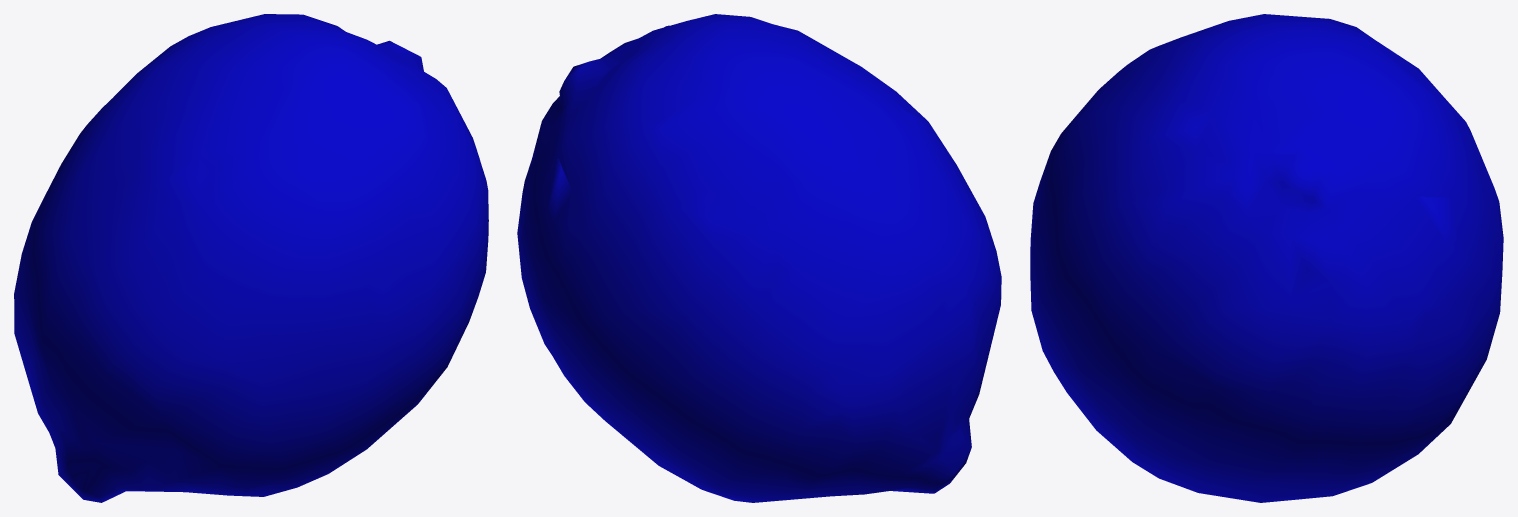
File: 08194_sparse_textured_ok.obj
3 renders of one model, left to right at view 1: azimuth 30°, elevation 25°; view 2: azimuth 150°, elevation 25°; view 3: azimuth 270°, elevation 25°, orthographic. The views are drawn at different scales.
Parts seen in each view (by area): view 1: textured_ok; view 2: textured_ok; view 3: textured_ok.
Part boxes in pixels (x1,y1,x2,y2): textured_ok: [14, 14, 488, 502]; textured_ok: [517, 14, 1001, 502]; textured_ok: [1030, 14, 1503, 502].
Size of the model in its own units: 0.0607 by 0.0593 by 0.0529.
